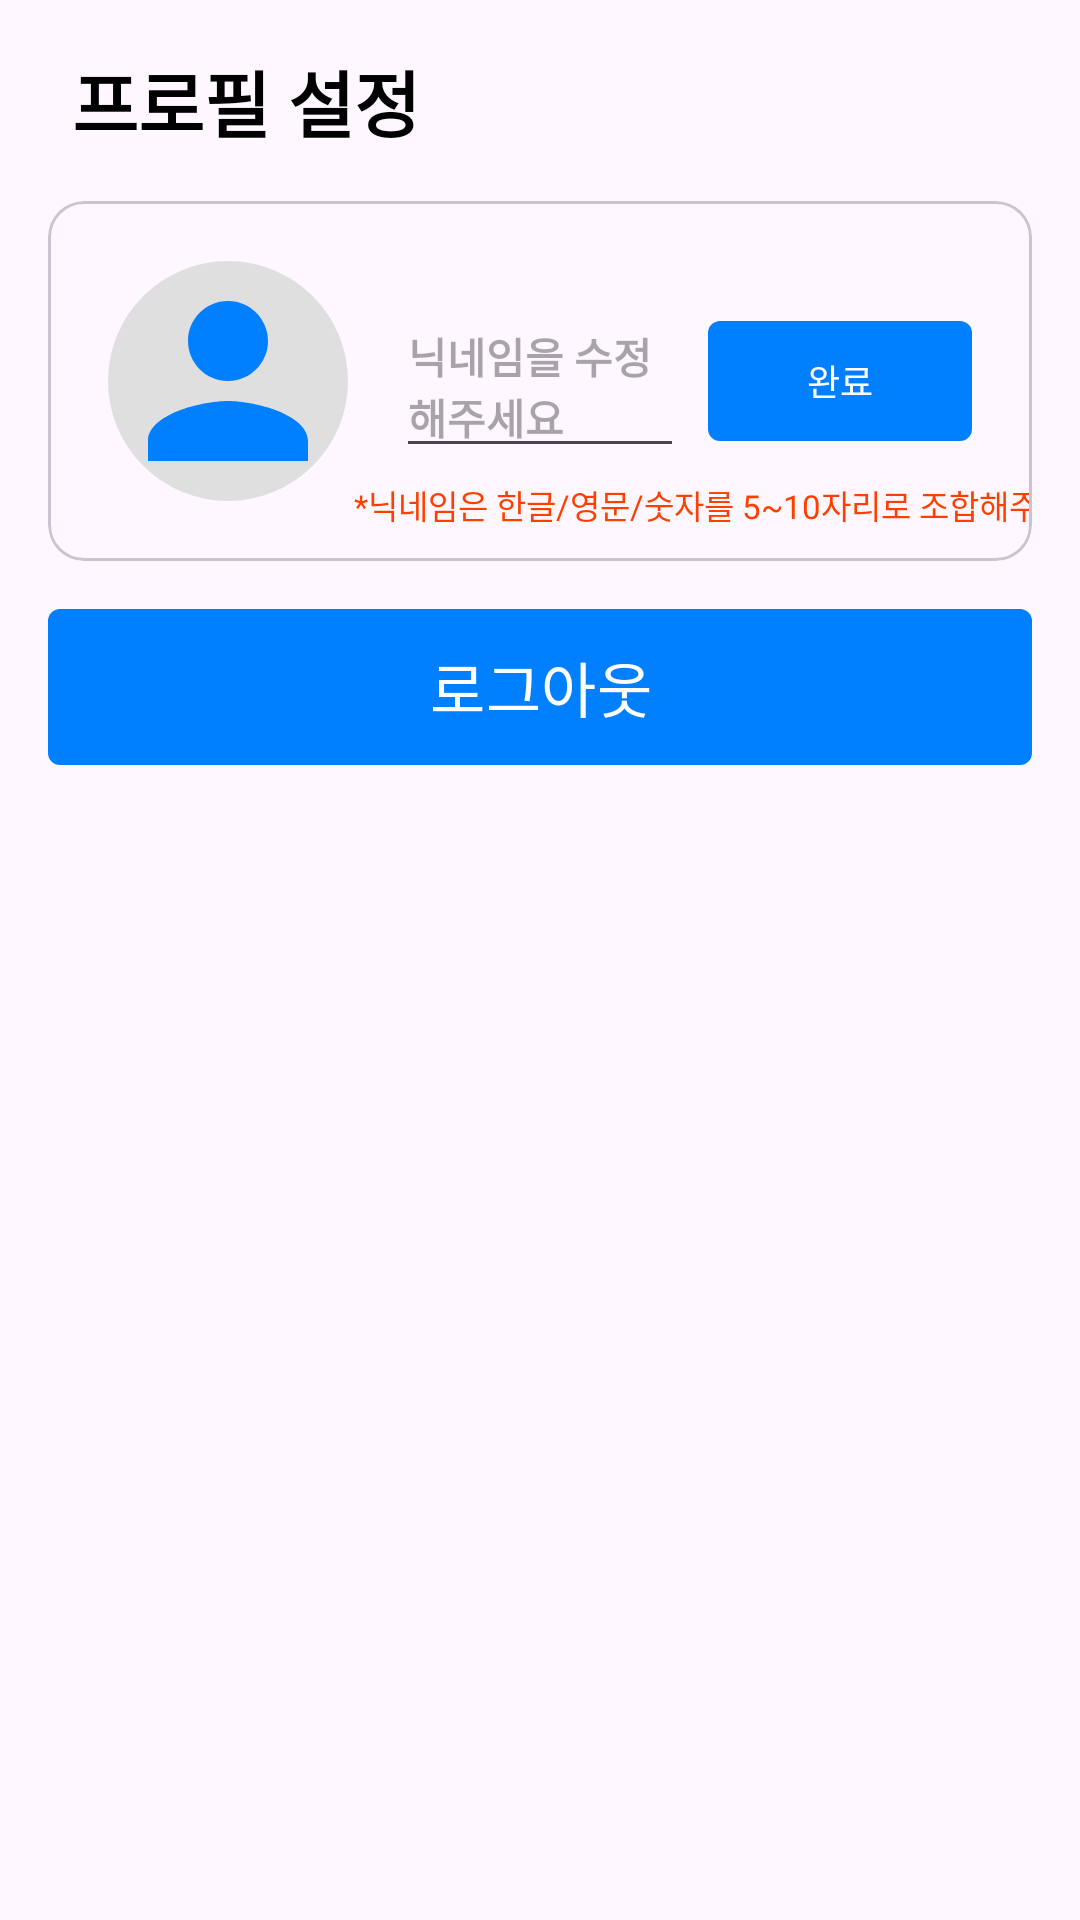

Icons on this 1080*1920 Android screen, each with the point to tap as (x=x, y=y):
person: (x=228, y=381)
